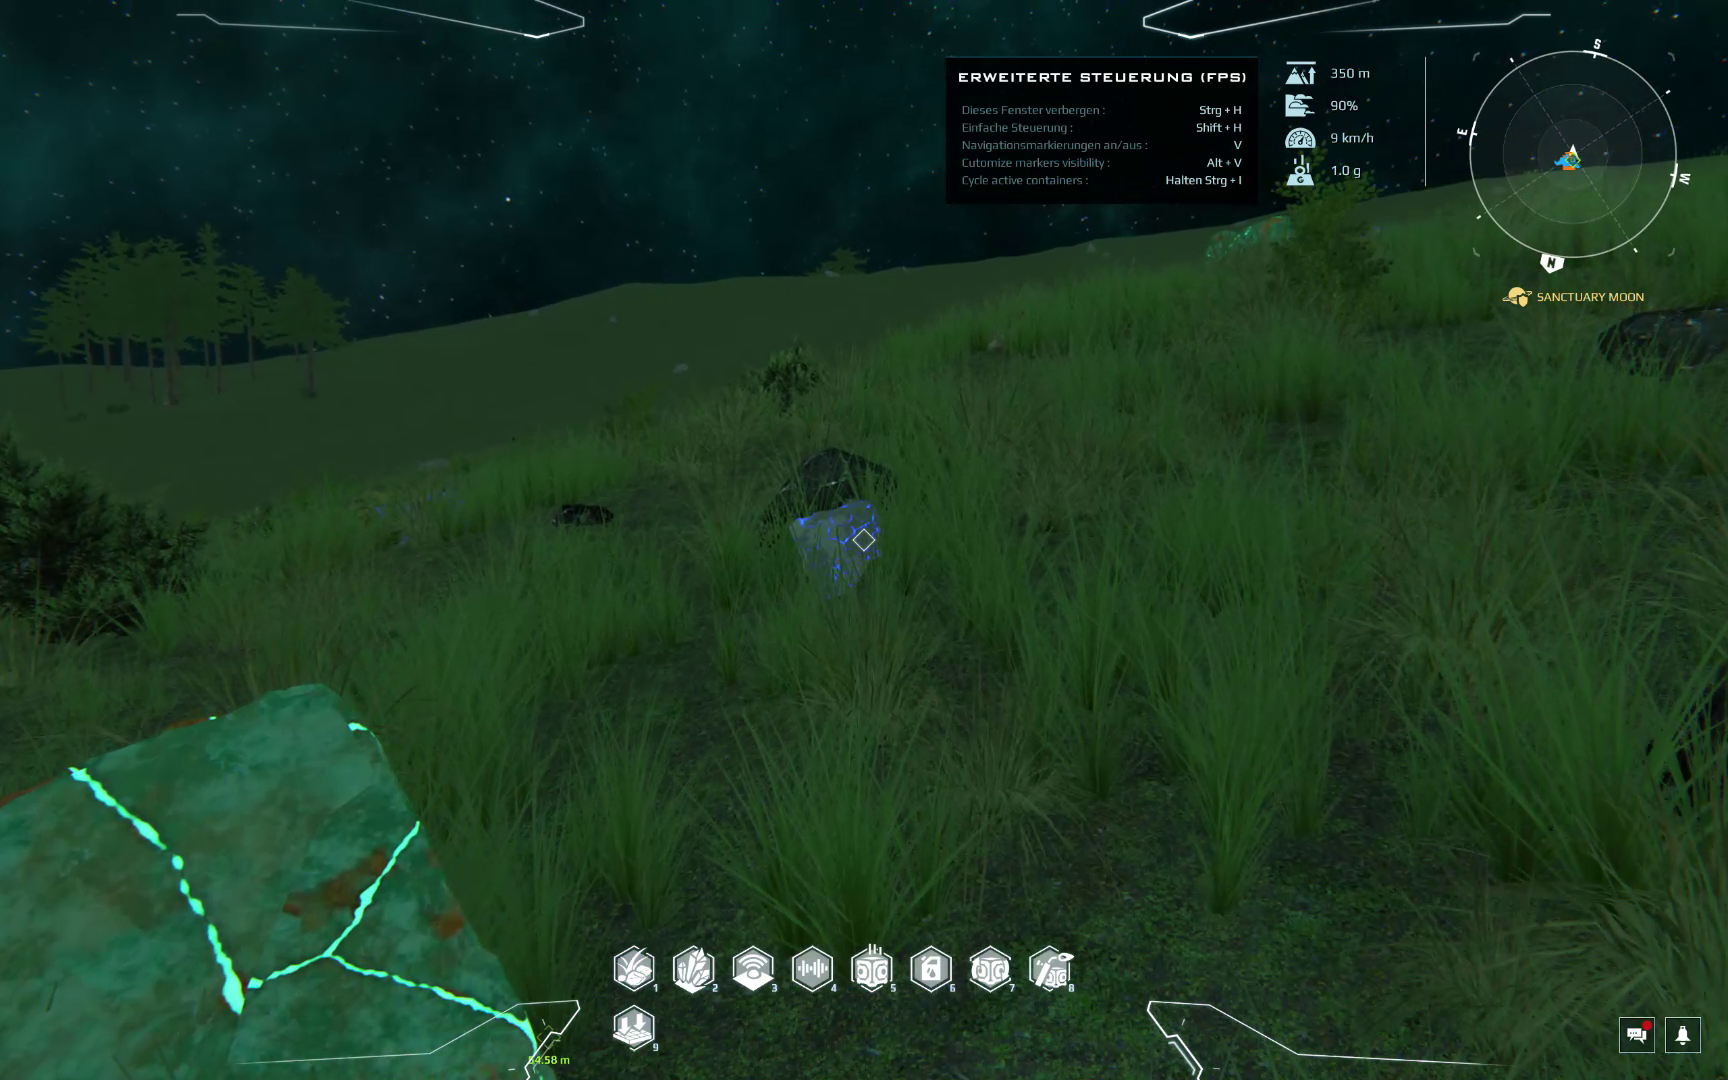Ore: (12, 681, 569, 1080), (753, 443, 901, 529), (1591, 291, 1728, 381), (791, 498, 899, 580), (540, 496, 615, 528)
